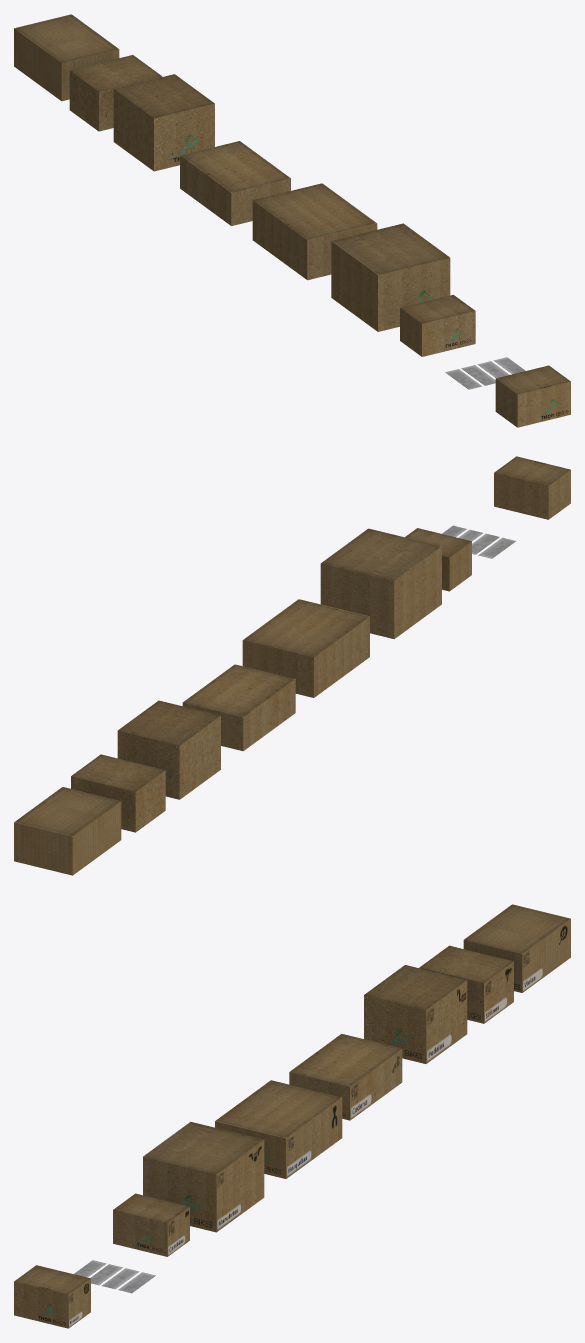
The model's file is cajas accesorios.FBX.
3 views of the same model, one above another, from view 1: azimuth 30°, elevation 25°; view 2: azimuth 150°, elevation 25°; view 3: azimuth 330°, elevation 25° (orthographic).
Visible parts, largest first — view 1: CajaManubrios, CajaPedales, CajaHorquillas, CajaCadenas, CajaPlatoVielas, CajaCambios, CajaFrenos, CajaSillines, LaminasPlatos; view 2: CajaManubrios, CajaHorquillas, CajaPlatoVielas, CajaPedales, CajaCadenas, CajaSillines, CajaFrenos, CajaCambios, LaminasPlatos; view 3: CajaManubrios, CajaPedales, CajaHorquillas, CajaCadenas, CajaPlatoVielas, CajaSillines, CajaFrenos, CajaCambios, LaminasPlatos.
Part boxes in pixels (<box>): CajaManubrios: <box>331,223,450,331</box>; CajaPedales: <box>113,74,214,171</box>; CajaHorquillas: <box>252,183,377,280</box>; CajaCadenas: <box>180,141,290,225</box>; CajaPlatoVielas: <box>14,14,119,101</box>; CajaCambios: <box>400,295,475,356</box>; CajaFrenos: <box>495,365,570,427</box>; CajaSillines: <box>69,55,162,131</box>; LaminasPlatos: <box>445,357,525,389</box>; CajaManubrios: <box>320,528,441,639</box>; CajaHorquillas: <box>242,599,369,697</box>; CajaPlatoVielas: <box>14,787,121,875</box>; CajaPedales: <box>117,700,220,799</box>; CajaCadenas: <box>182,664,295,751</box>; CajaSillines: <box>71,754,165,832</box>; CajaFrenos: <box>494,456,570,519</box>; CajaCambios: <box>405,528,471,591</box>; LaminasPlatos: <box>442,525,515,558</box>; CajaManubrios: <box>143,1121,264,1232</box>; CajaPedales: <box>364,965,467,1063</box>; CajaHorquillas: <box>215,1080,342,1178</box>; CajaCadenas: <box>289,1033,402,1120</box>; CajaPlatoVielas: <box>463,904,570,992</box>; CajaSillines: <box>419,945,513,1023</box>; CajaFrenos: <box>14,1265,90,1328</box>; CajaCambios: <box>113,1193,189,1256</box>; LaminasPlatos: <box>74,1260,155,1293</box>.
Size of the model in its own units: 0.6008 by 0.428 by 6.77.
